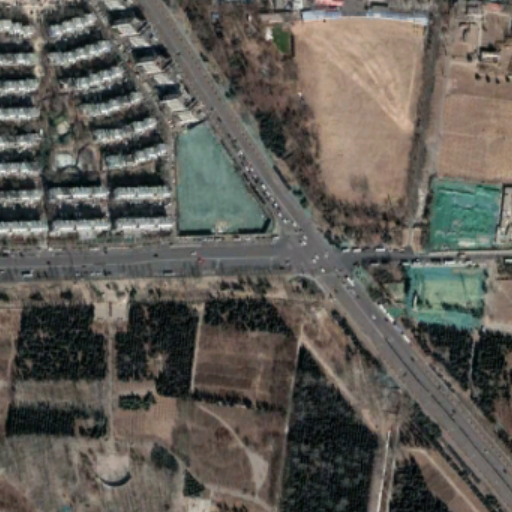cw: (174, 115, 273, 237), (419, 171, 508, 252), (396, 260, 489, 329)
